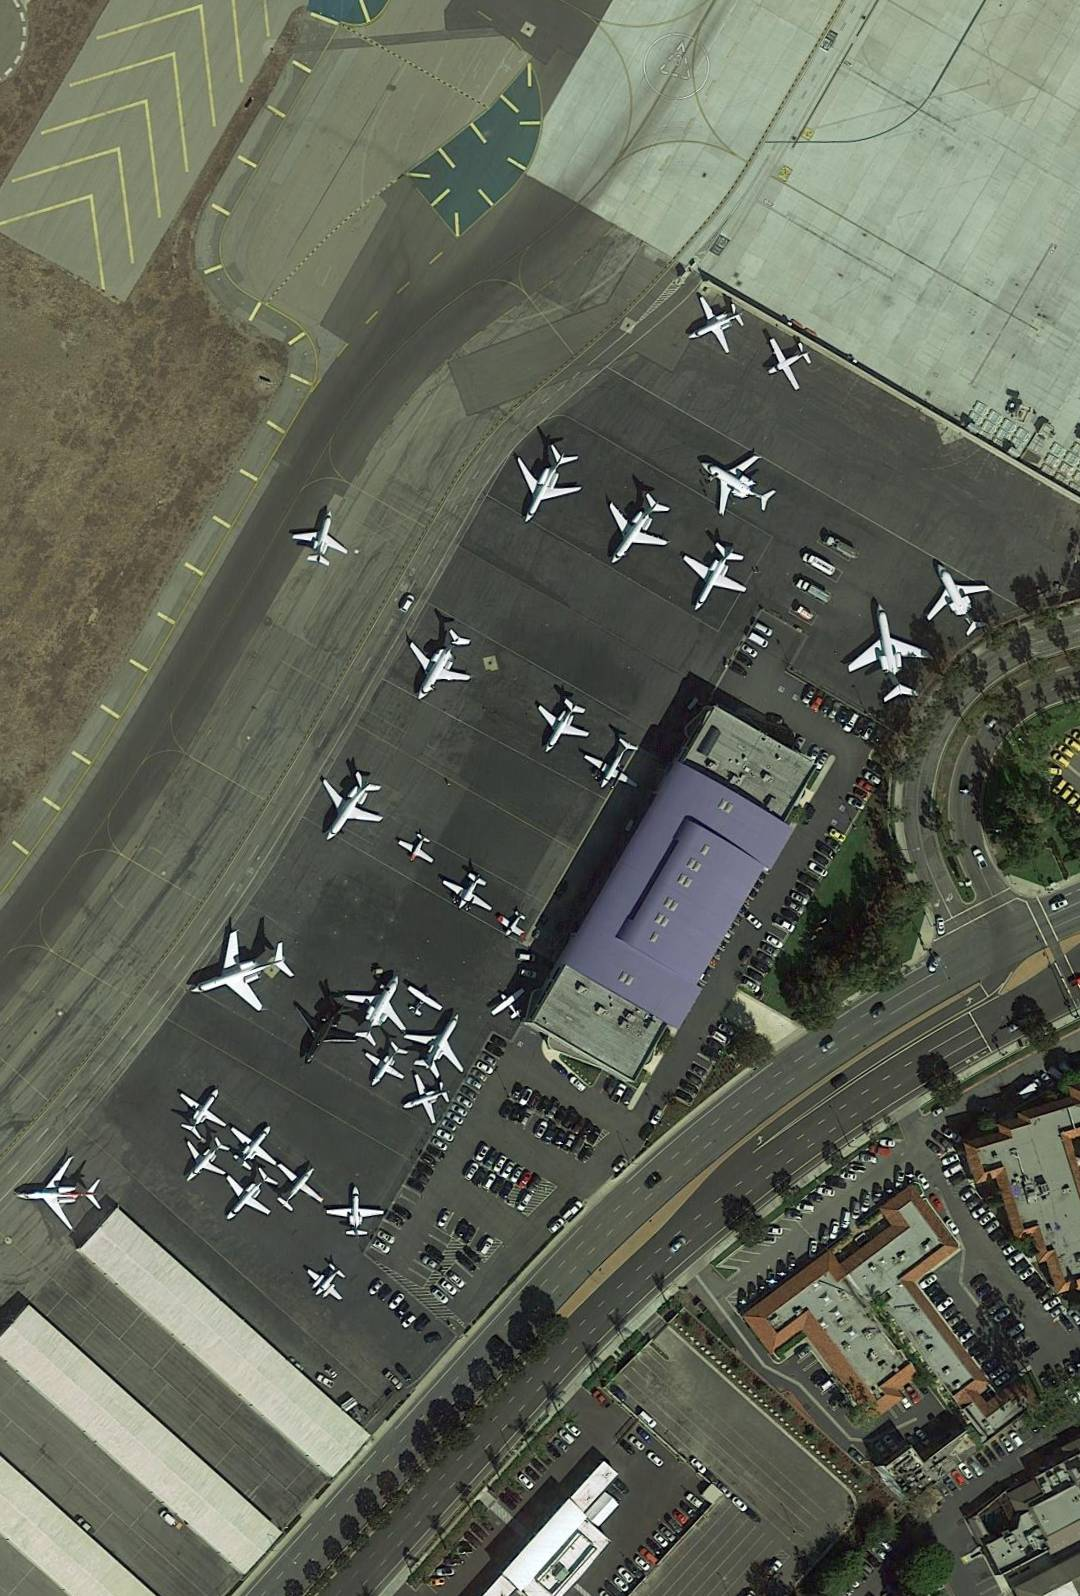plane: (178, 917, 304, 1029), (491, 430, 596, 542), (583, 479, 688, 584), (297, 756, 400, 860), (386, 616, 488, 720), (682, 433, 787, 533), (838, 600, 938, 704), (663, 530, 761, 628), (272, 984, 372, 1079), (333, 961, 427, 1057), (909, 548, 1001, 646), (394, 997, 488, 1089), (13, 1155, 103, 1238), (204, 1153, 290, 1236), (521, 688, 601, 768), (573, 725, 654, 804), (258, 1148, 340, 1225), (676, 286, 752, 363), (164, 1074, 242, 1149), (164, 1125, 241, 1200), (217, 1109, 293, 1180), (287, 503, 358, 573), (754, 328, 821, 400), (354, 1033, 418, 1100), (396, 1065, 457, 1132), (436, 863, 504, 921), (324, 1184, 388, 1238), (298, 1255, 356, 1311), (485, 981, 533, 1029), (399, 981, 448, 1026), (394, 827, 444, 870), (490, 903, 537, 945)
